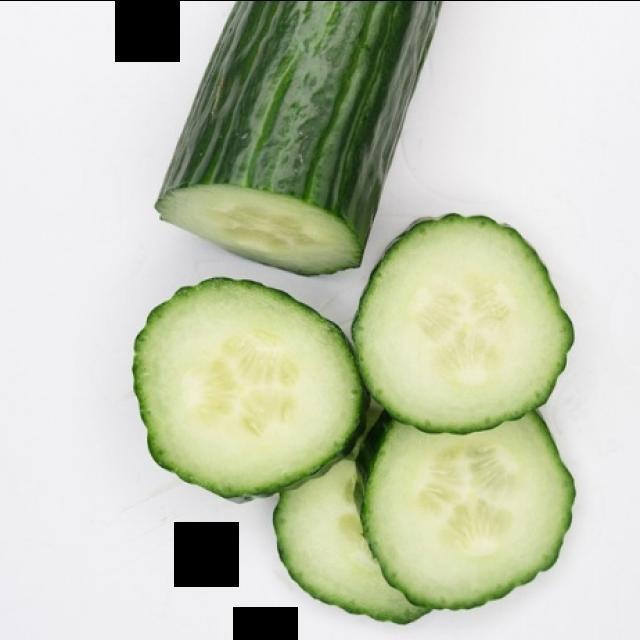cucumber: (125, 203, 539, 640), (122, 264, 387, 538), (326, 352, 578, 620)
